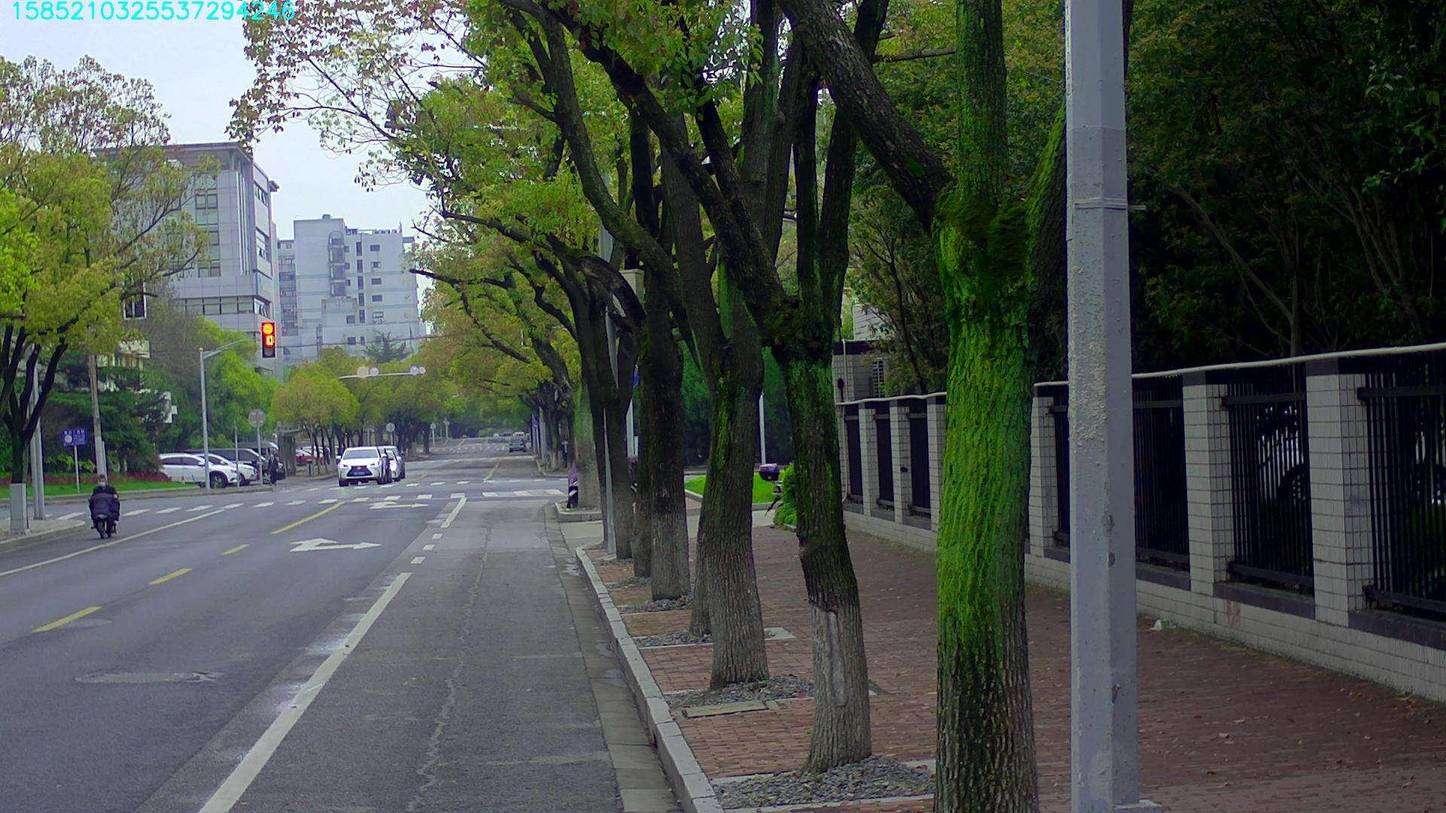red: (261, 321, 275, 357)
